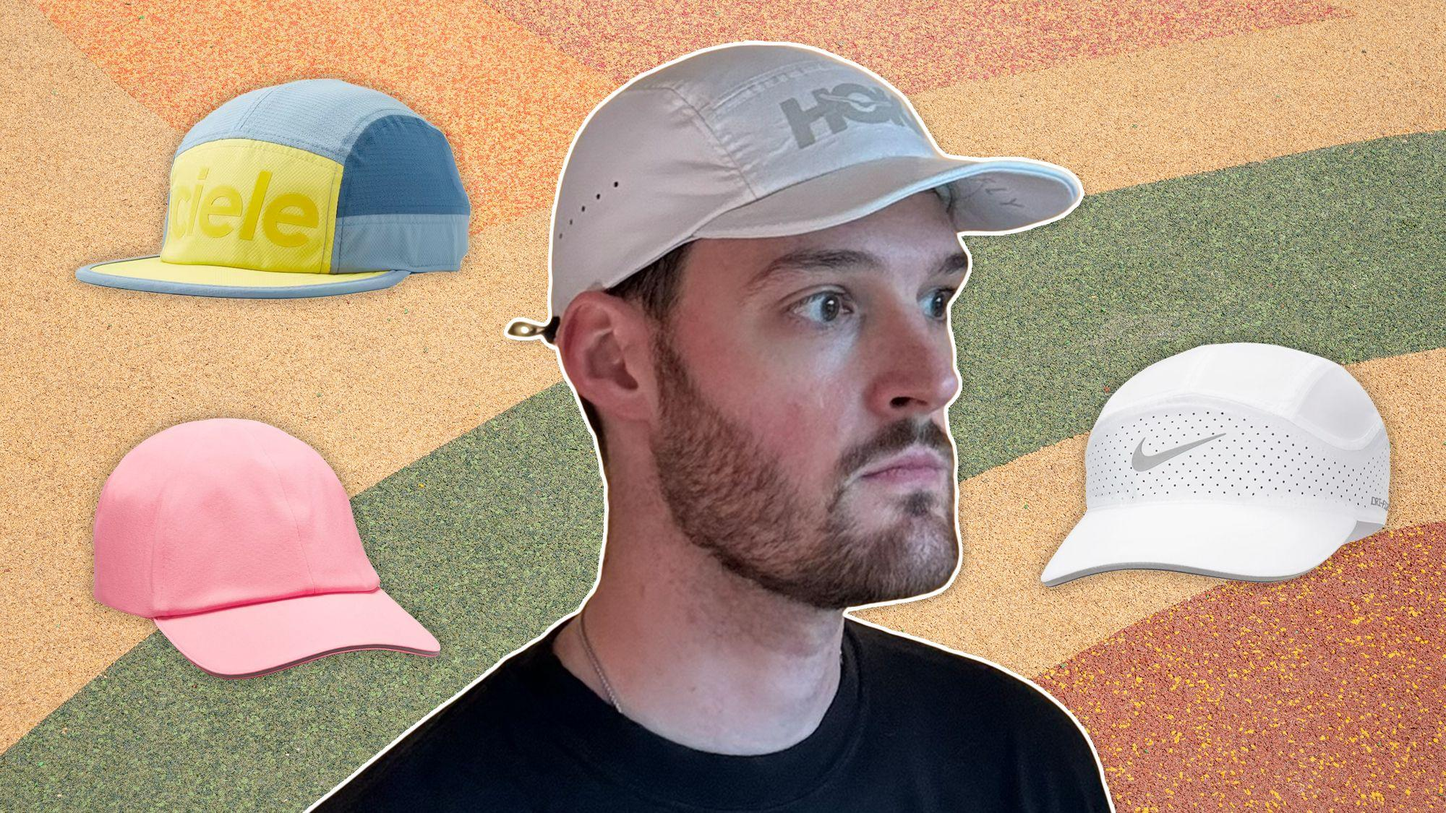cap: (523, 24, 1084, 332)
